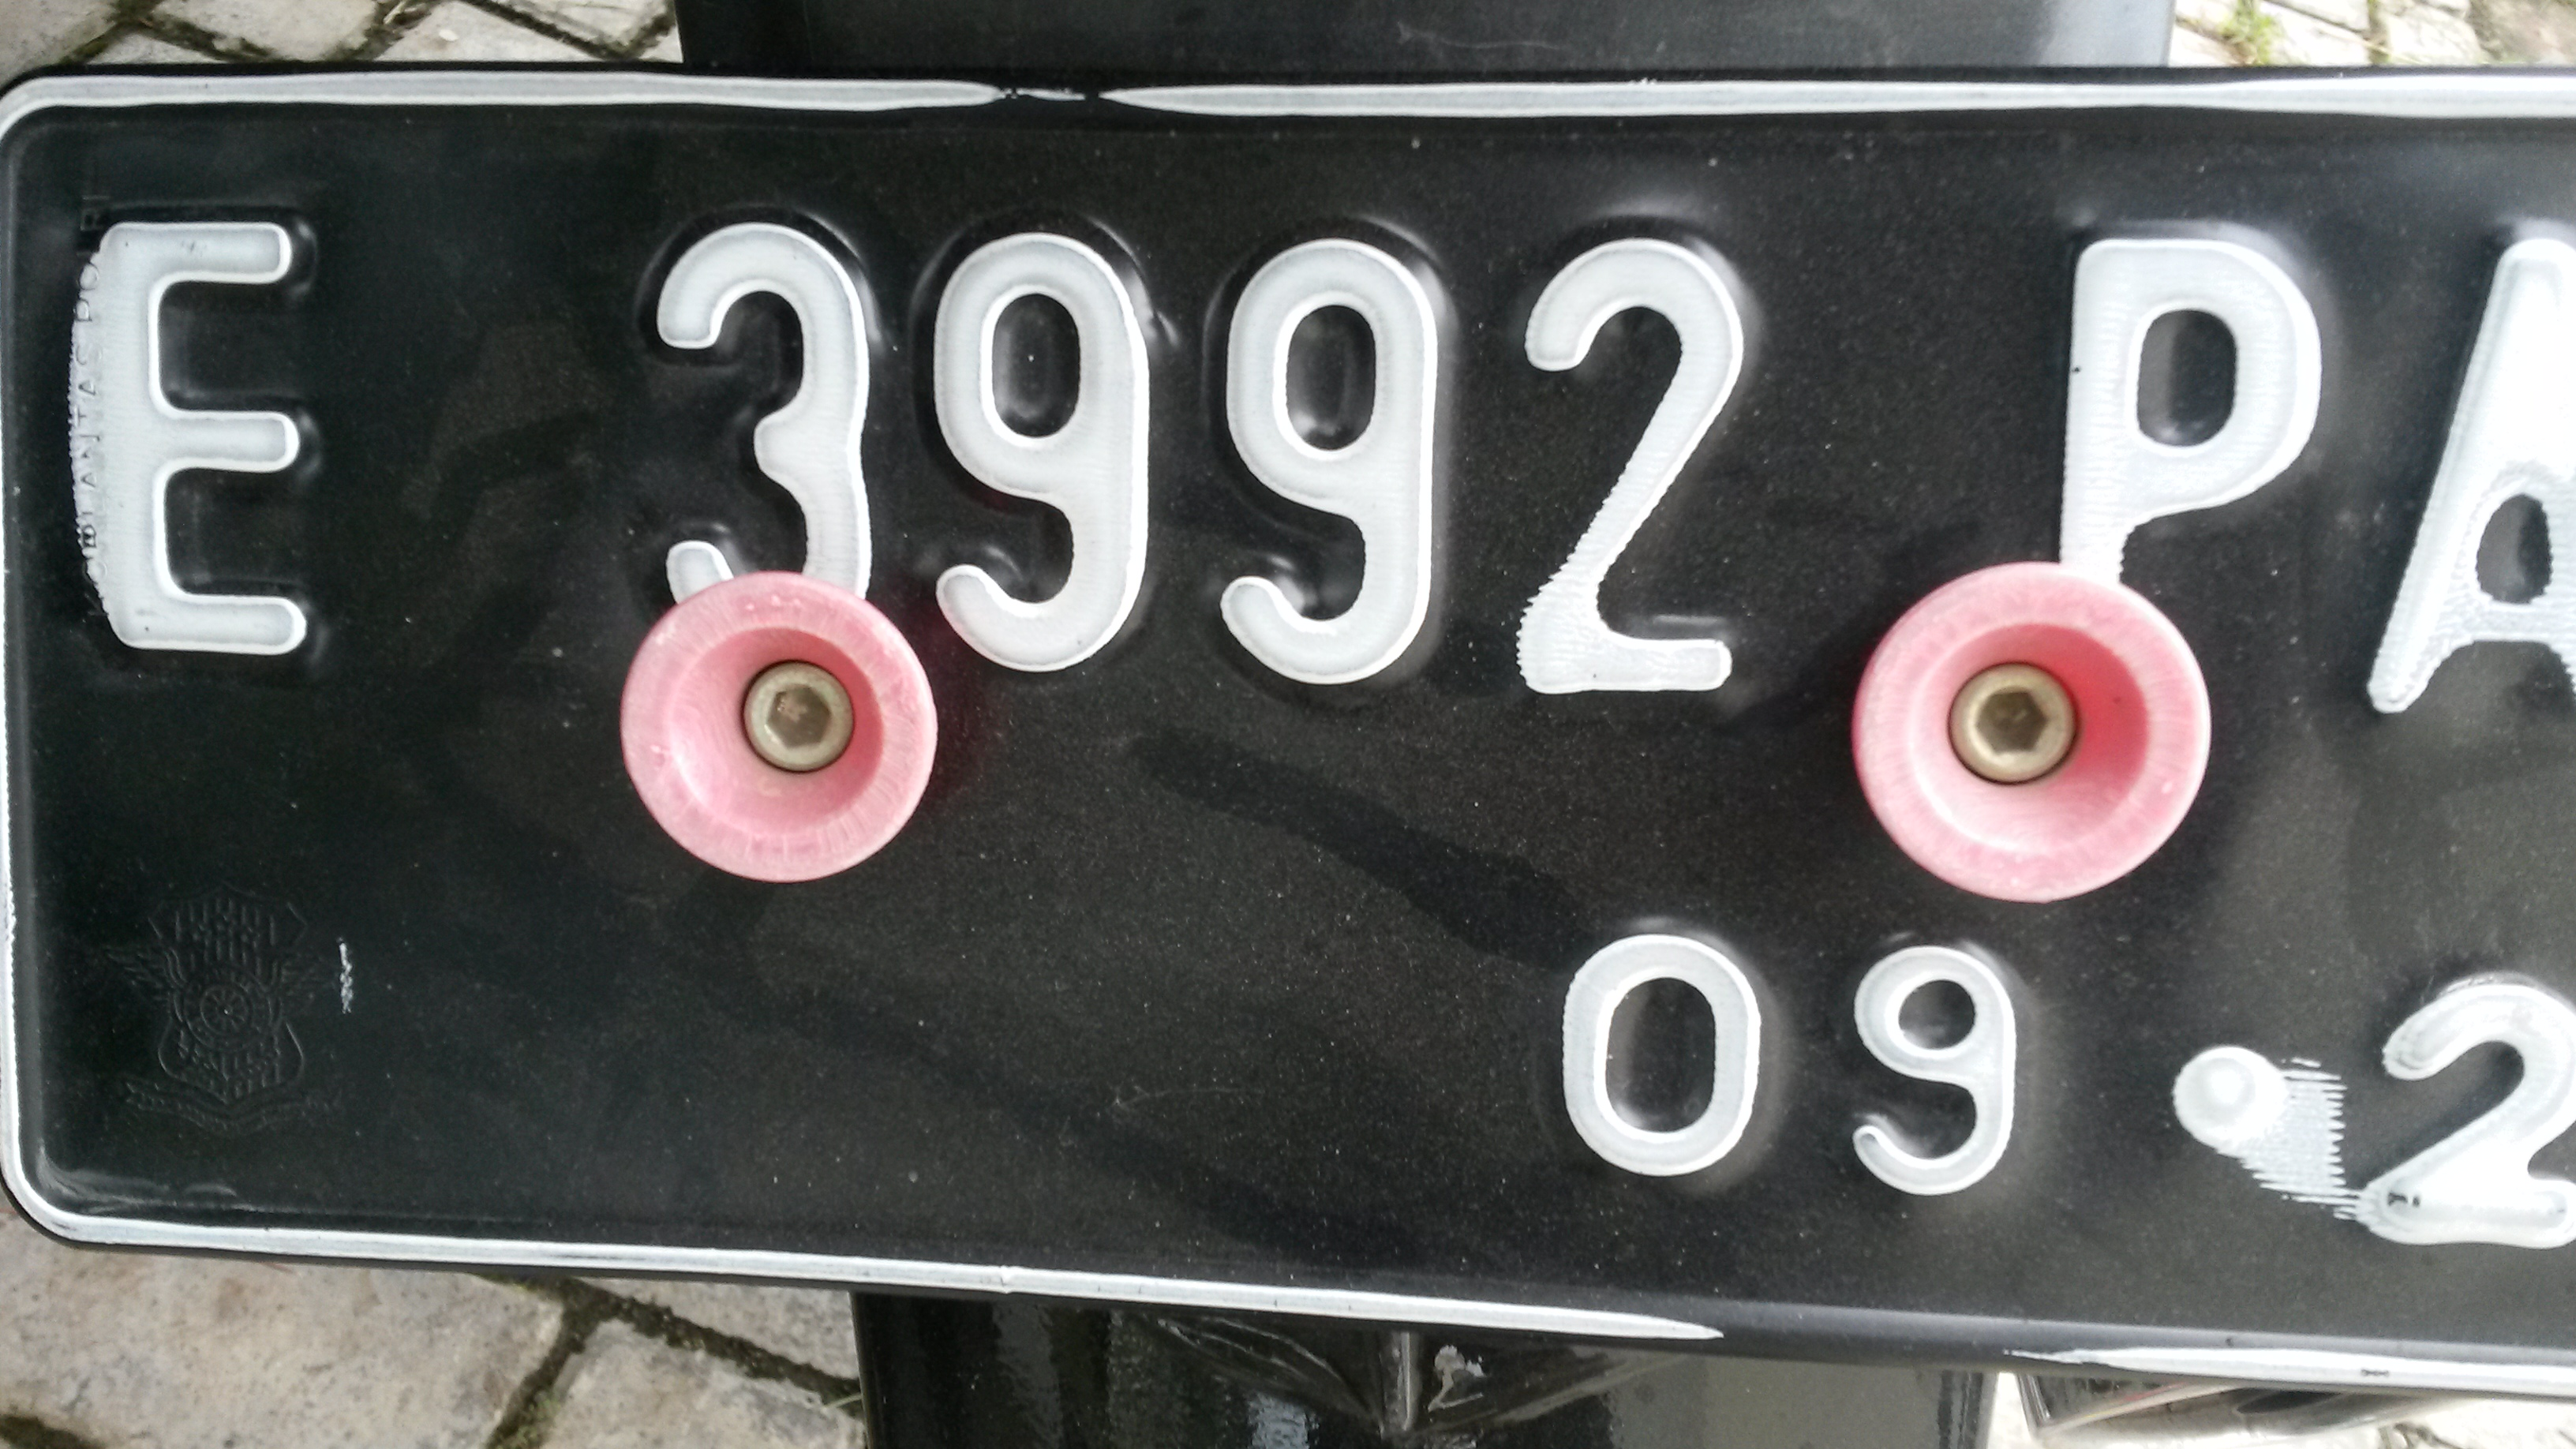plate: (2, 62, 2575, 1402)
